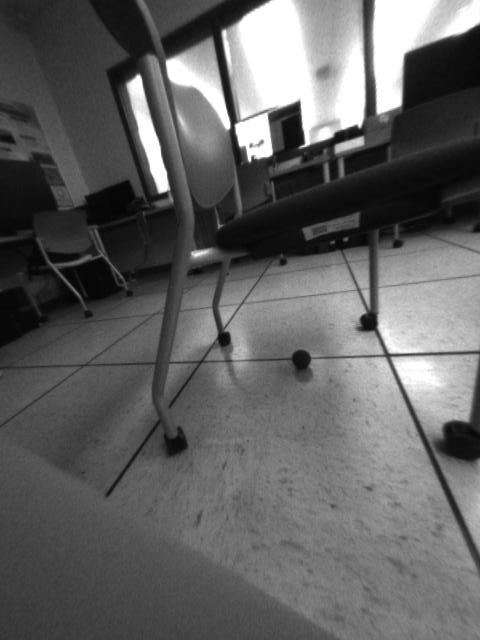dogtoy: (282, 343, 319, 375)
